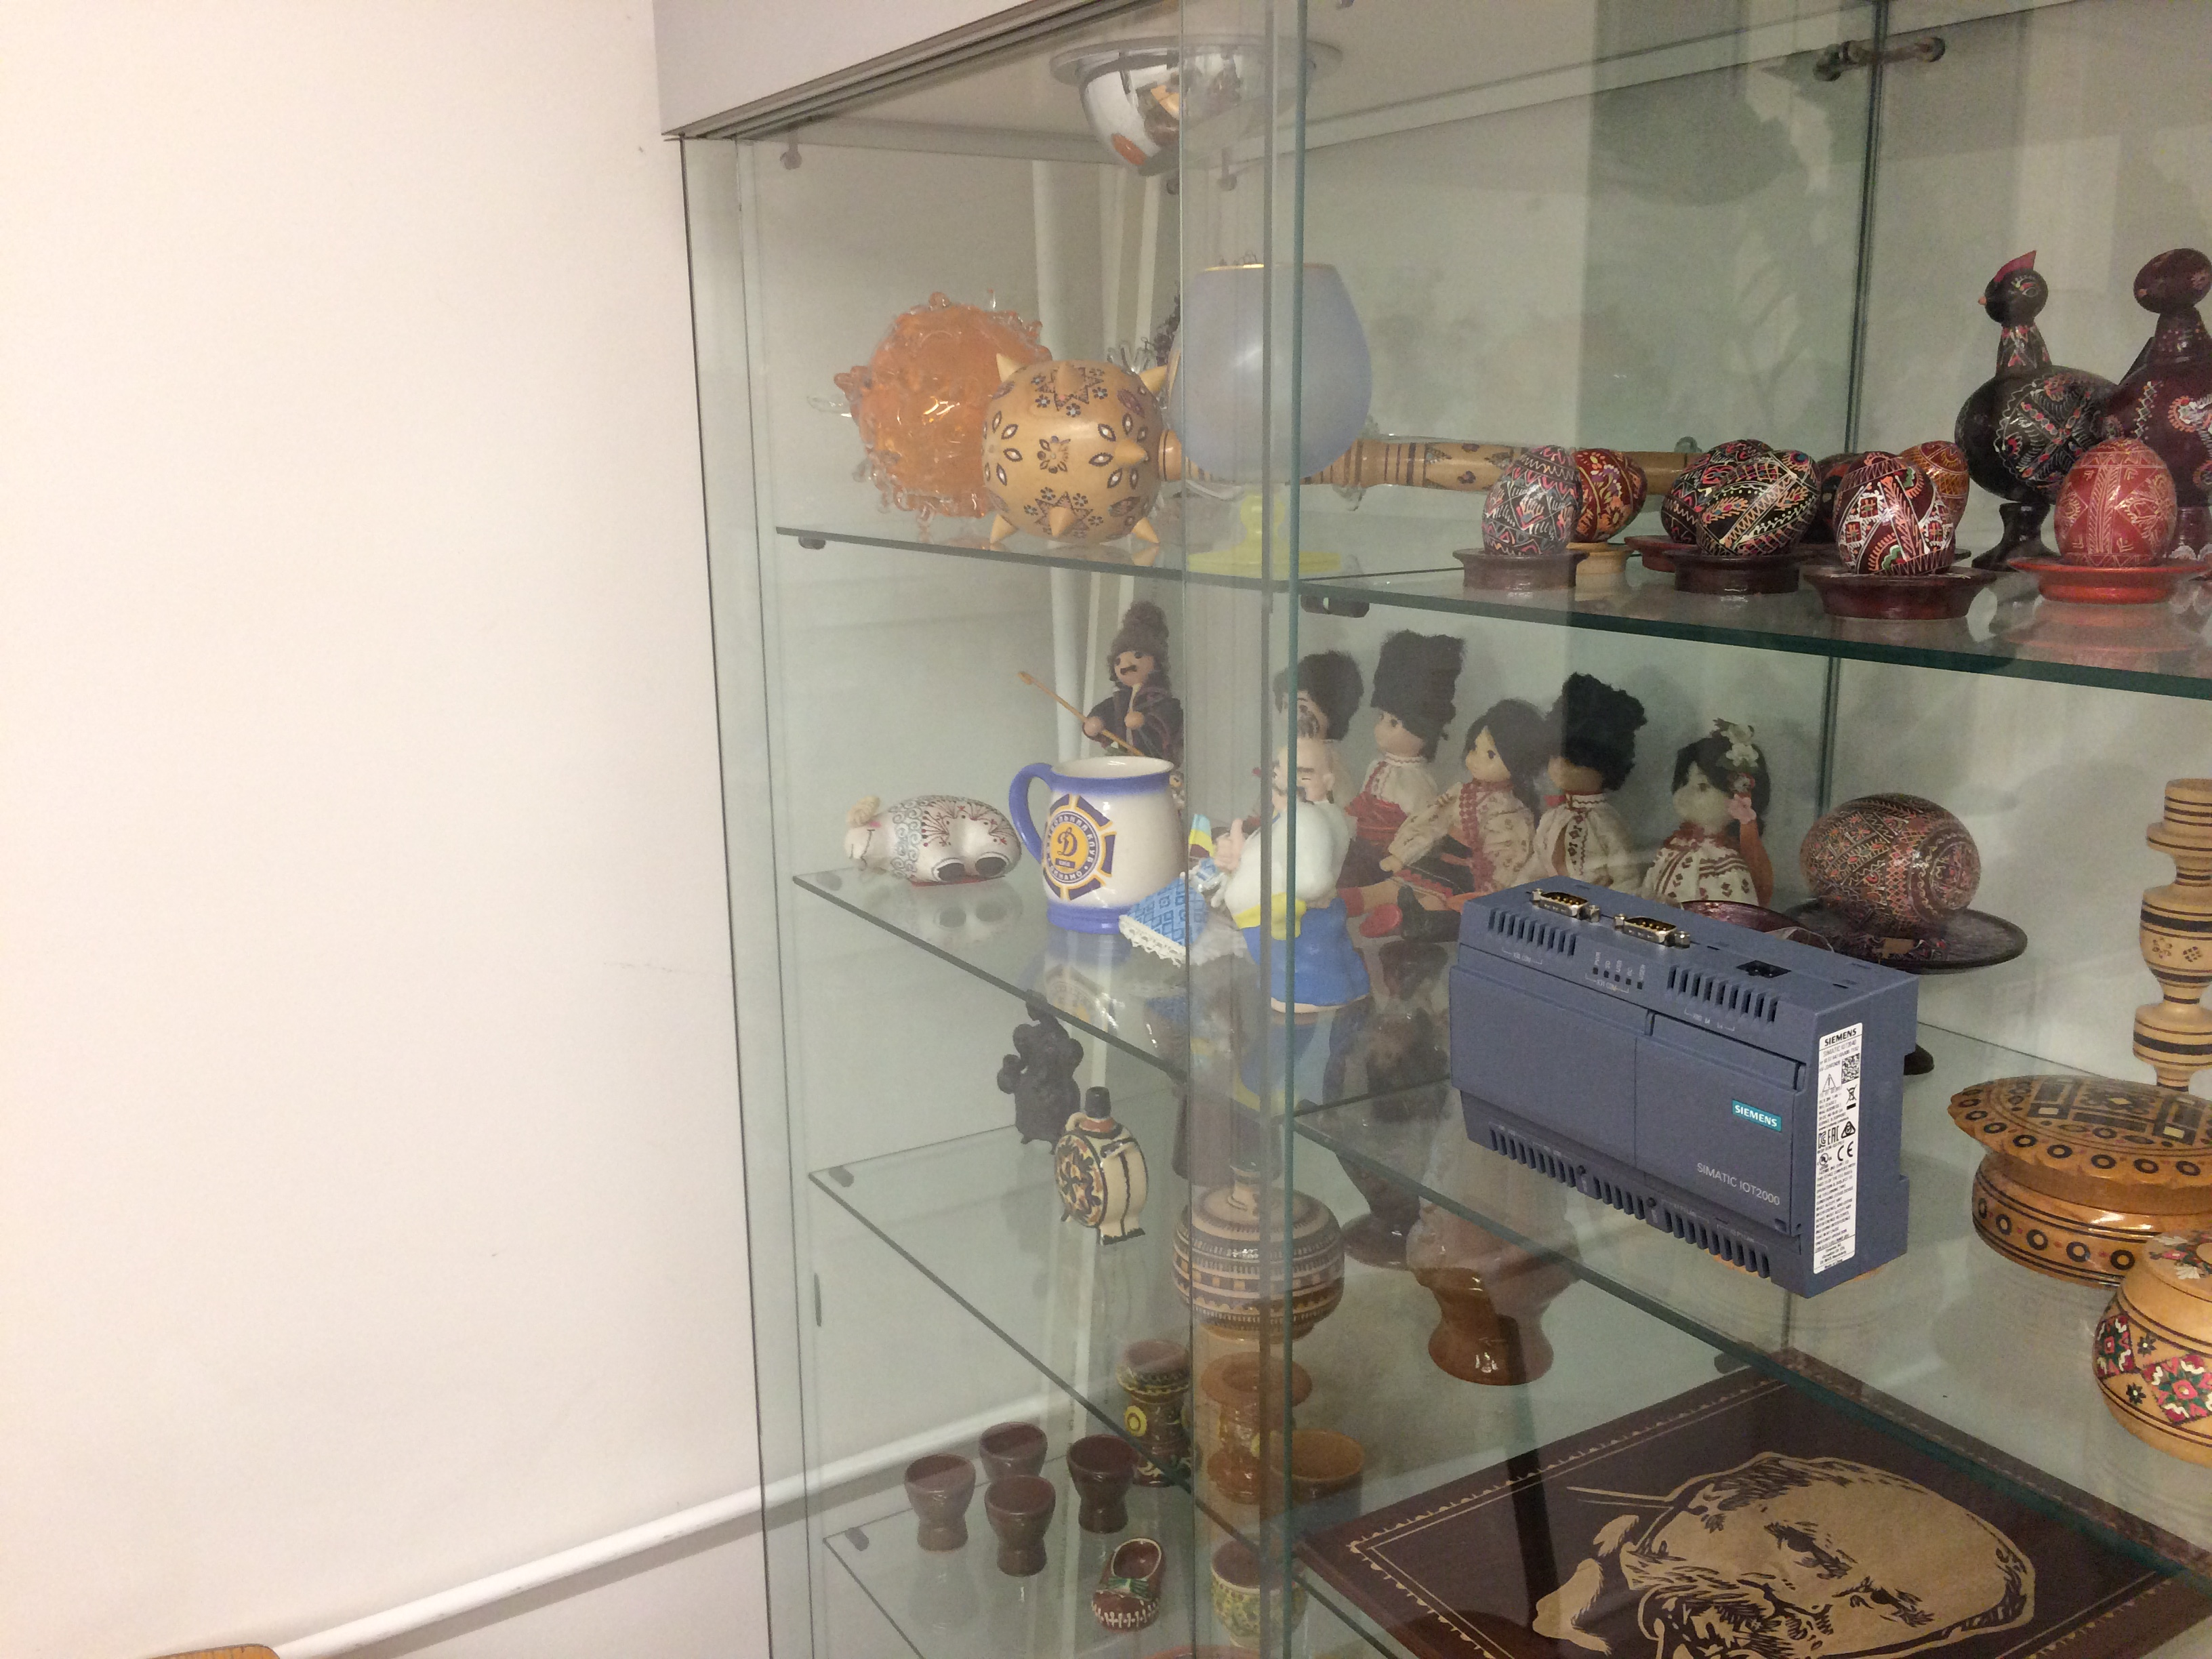iot2000: (1444, 871, 1923, 1302)
